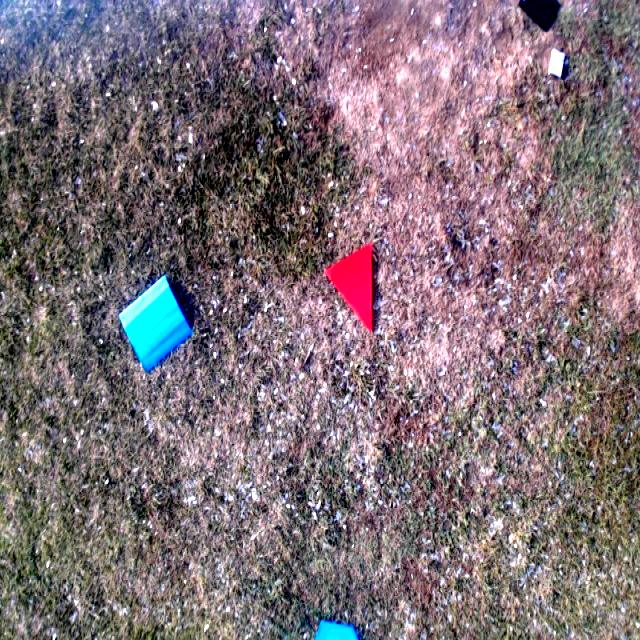blue_square: (119, 274, 191, 371)
red_triangle: (326, 245, 373, 335)
